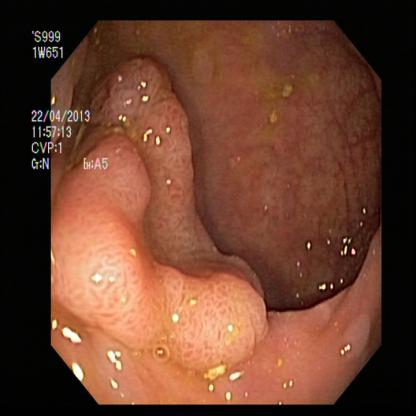Labels: (27, 29, 116, 182)
Polyps: (59, 159, 259, 360)
